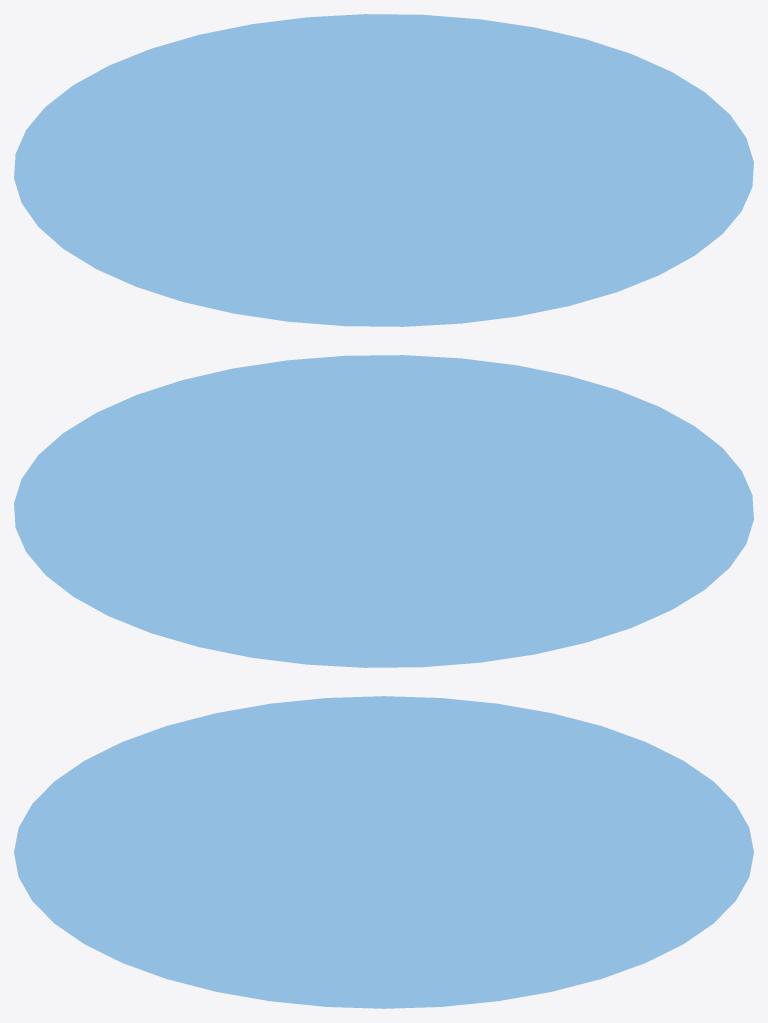
The model's file is SilverPool.obj.
The picture shows the model from 3 angles, top to bottom: view 1: azimuth 30°, elevation 25°; view 2: azimuth 150°, elevation 25°; view 3: azimuth 270°, elevation 25°; orthographic projection.
Parts seen in each view (by area): view 1: SilverPool; view 2: SilverPool; view 3: SilverPool.
Boxes of the visible parts, x1,y1,x2,y2 form: SilverPool: (14,14,753,326); SilverPool: (14,355,753,667); SilverPool: (14,696,753,1008).
Bounding box in the file's own units: 1.8 × 0.006 × 1.8.
3 materials, 3 textured.
